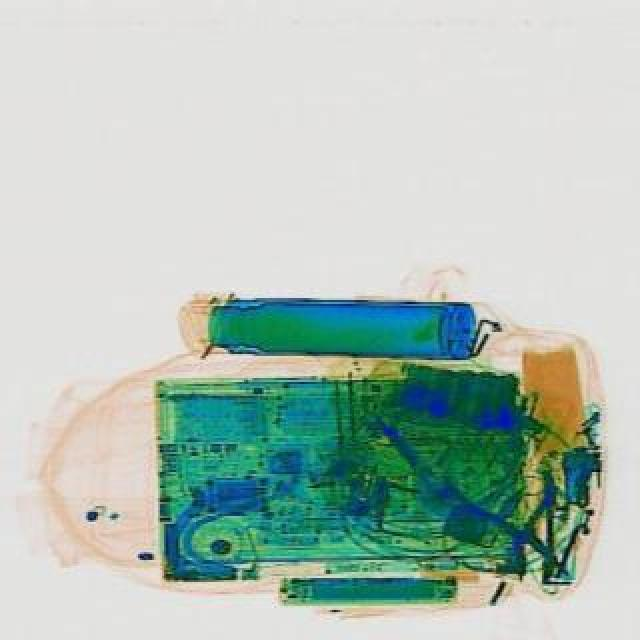wrench: (450, 456, 582, 594)
